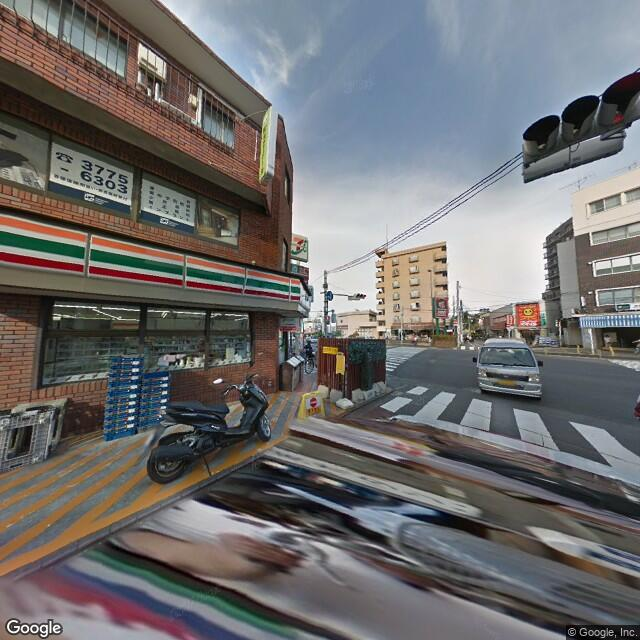7-eleven: (1, 207, 307, 314), (288, 227, 312, 265)
